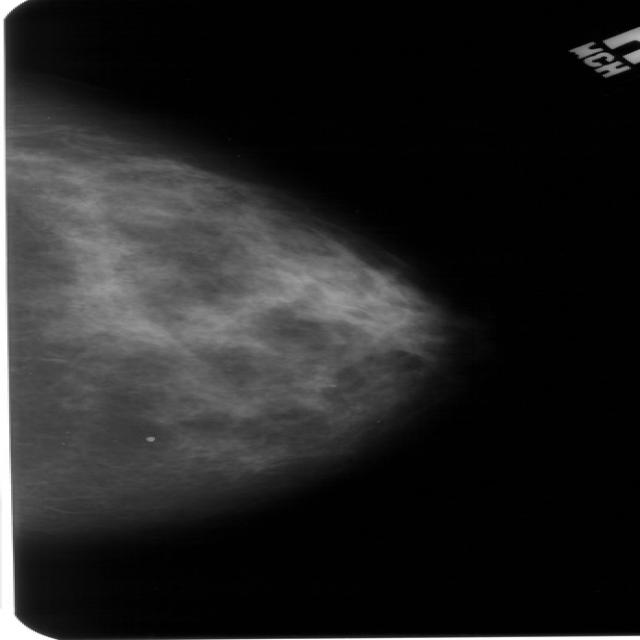tumour: (179, 304, 236, 347)
